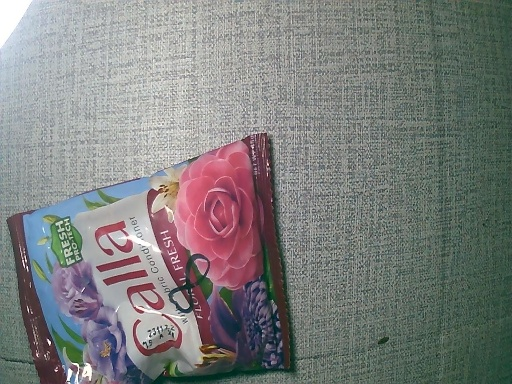plastic: (8, 136, 290, 384)
